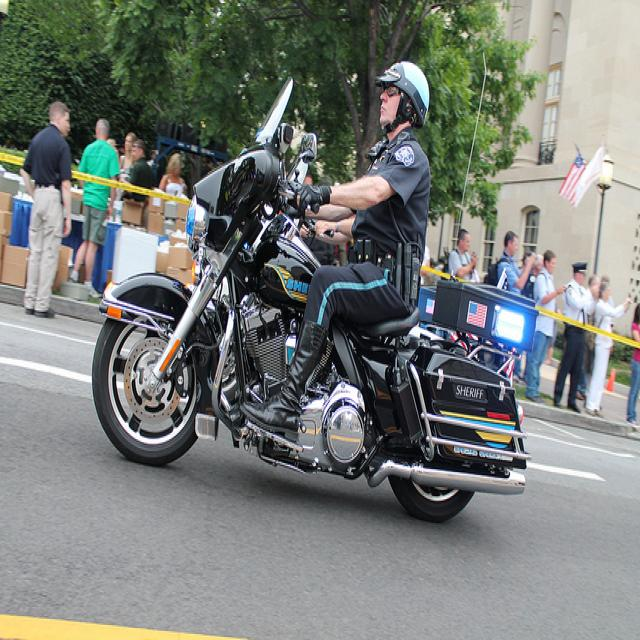motor: (86, 75, 526, 519)
